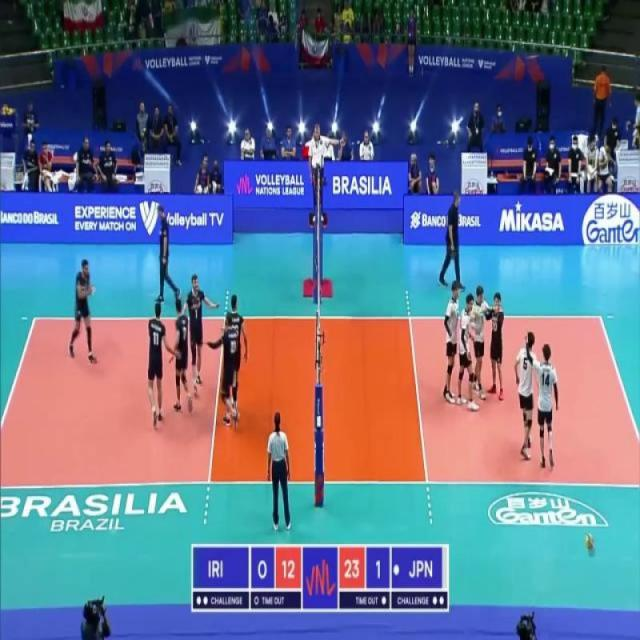volleyball: (584, 532, 595, 553), (2, 102, 8, 114)
